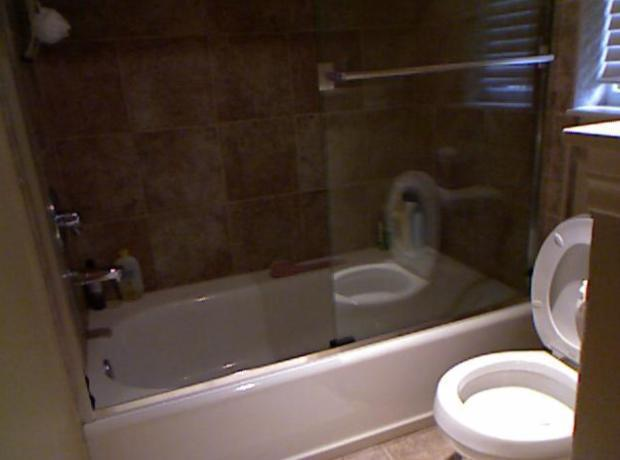Ducha: (7, 5, 149, 450)
Sanitario: (432, 214, 615, 457)
